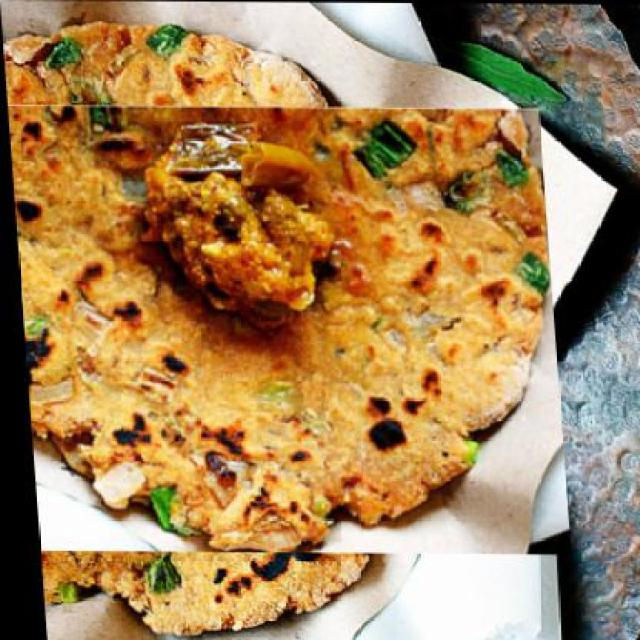chapati: (4, 61, 525, 598)
